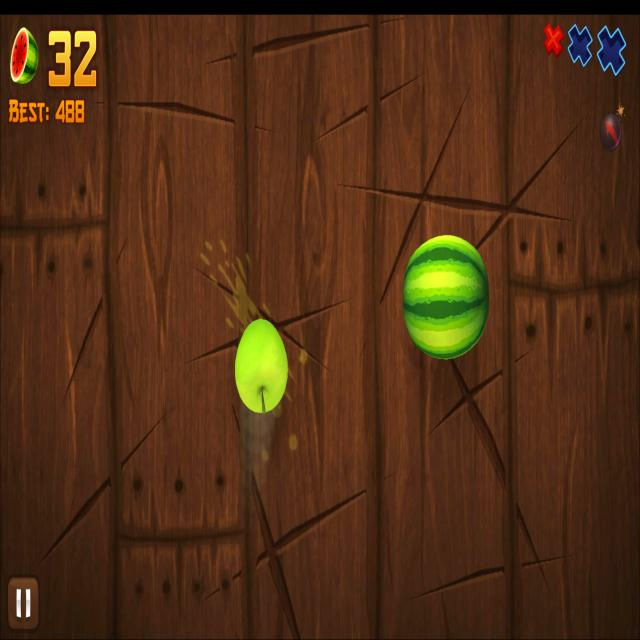fruit: (404, 234, 489, 360), (234, 318, 289, 415)
